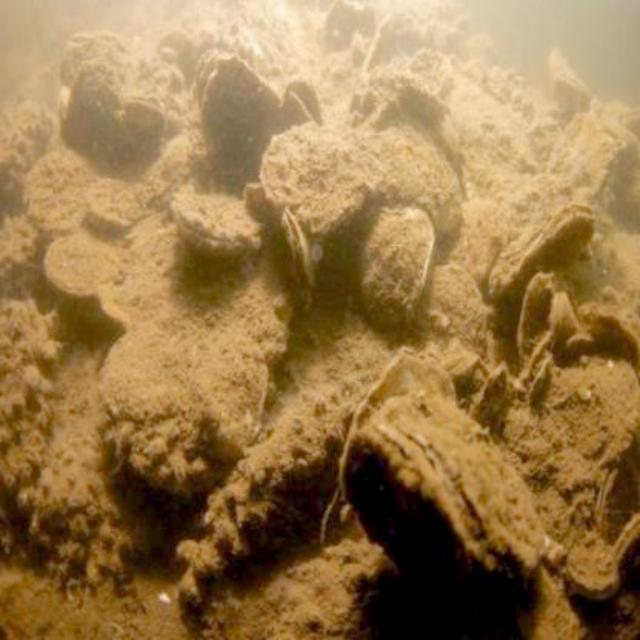Oyster-Closed: (344, 397, 548, 610), (102, 289, 266, 497), (529, 353, 638, 510), (341, 350, 450, 498), (262, 120, 377, 234), (367, 129, 461, 248), (353, 202, 432, 332), (204, 61, 289, 172), (92, 224, 181, 329), (509, 200, 596, 301), (411, 265, 488, 369), (164, 185, 262, 254), (22, 153, 101, 237), (68, 59, 126, 156), (565, 125, 625, 209), (46, 232, 123, 297), (565, 531, 623, 606), (517, 277, 558, 359), (281, 212, 320, 297), (124, 91, 170, 161), (89, 176, 144, 224), (475, 366, 513, 423), (553, 73, 593, 121), (610, 510, 638, 568), (618, 103, 638, 140)
Oyster-Open: (284, 79, 324, 125)
